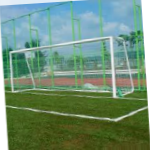goals: (7, 35, 136, 101)
